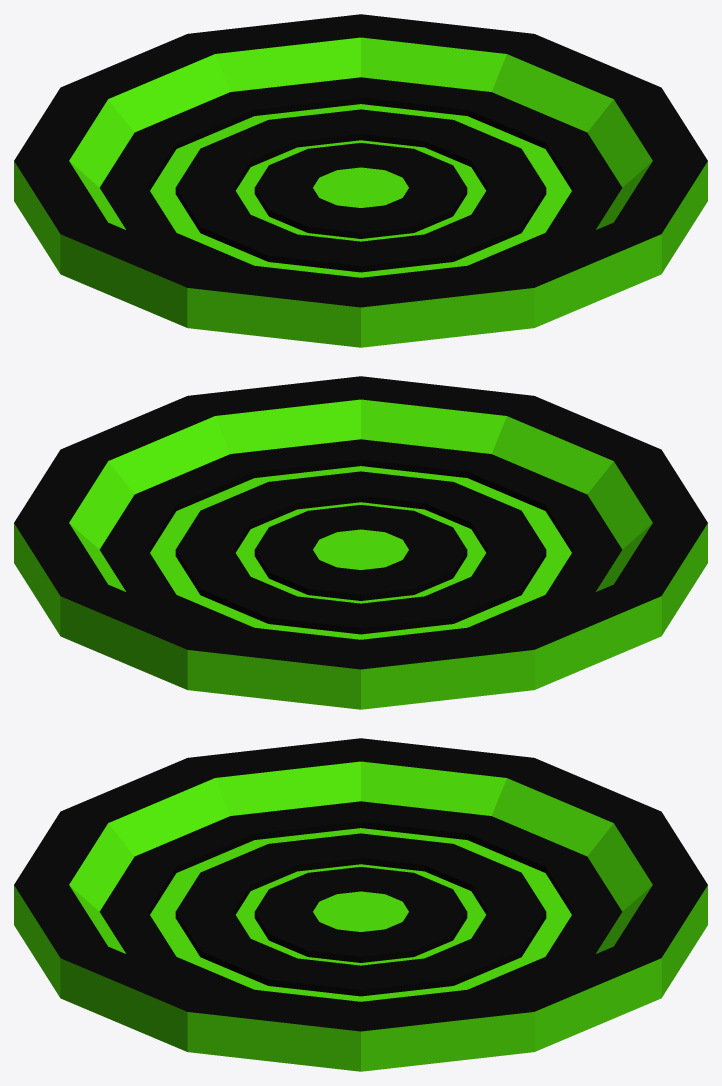
Rendered from landing_pad-F7h9QLjG.glb.
3 views of the same model, one above another, from view 1: azimuth 30°, elevation 25°; view 2: azimuth 150°, elevation 25°; view 3: azimuth 270°, elevation 25° (orthographic).
Visible parts, largest first — view 1: Cube; view 2: Cube; view 3: Cube.
Boxes of the visible parts, x1,y1,x2,y2 form: Cube: (14,14,707,347); Cube: (14,376,707,709); Cube: (14,738,707,1071).
Size of the model in its own units: 2 by 0.128 by 2.
